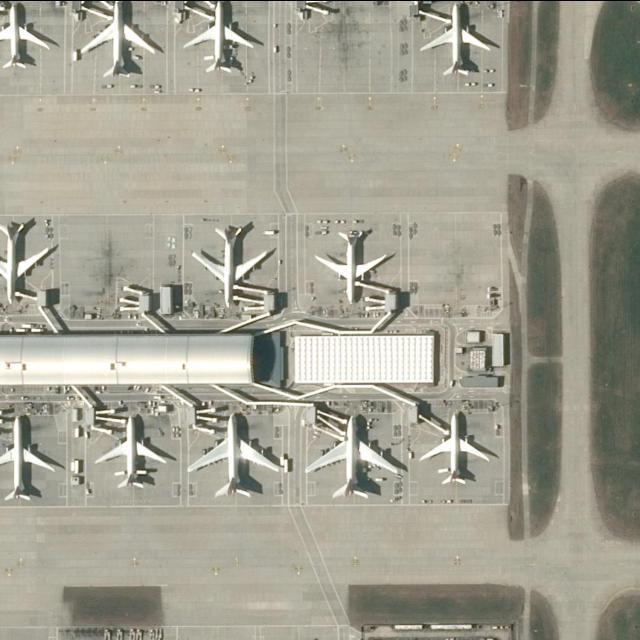Aircraft: (309, 413, 402, 499), (192, 411, 280, 501), (195, 219, 271, 307), (79, 2, 160, 80), (420, 3, 498, 77), (98, 414, 171, 492), (0, 411, 61, 499), (185, 1, 259, 73), (422, 411, 494, 485), (320, 226, 388, 302), (0, 214, 54, 302), (0, 4, 51, 71)
